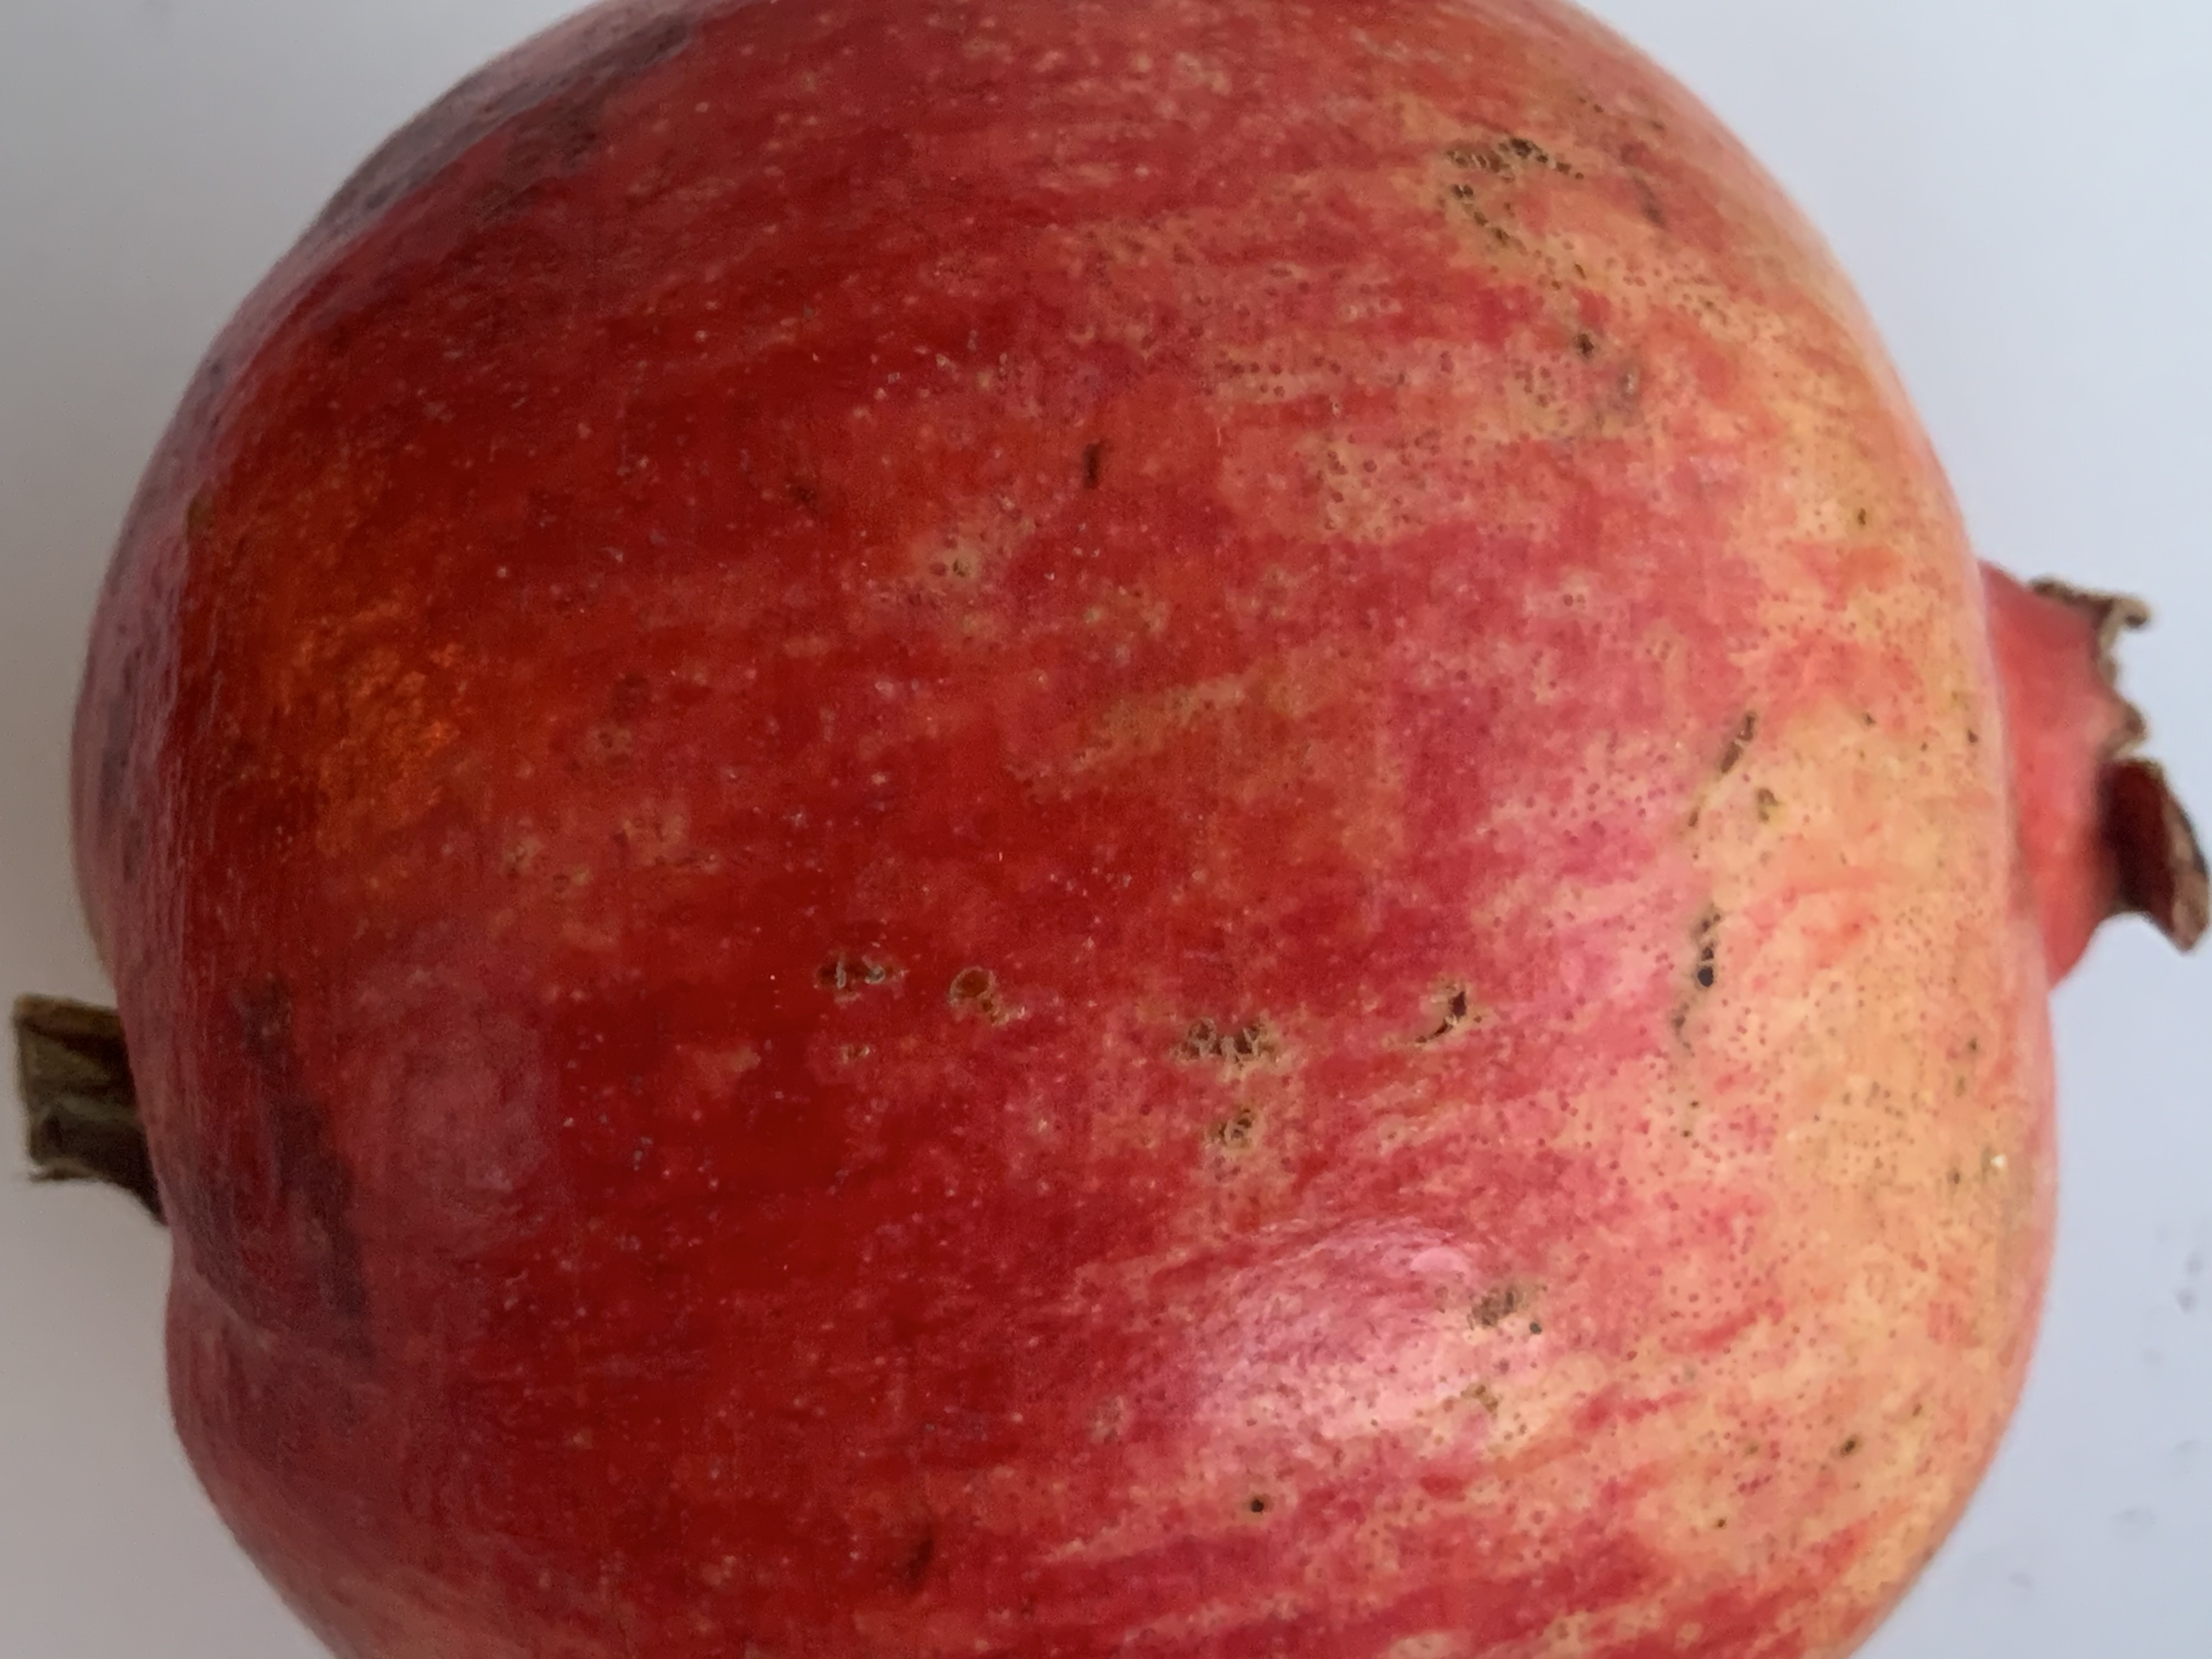Pomegranate: (21, 12, 2205, 1659)
